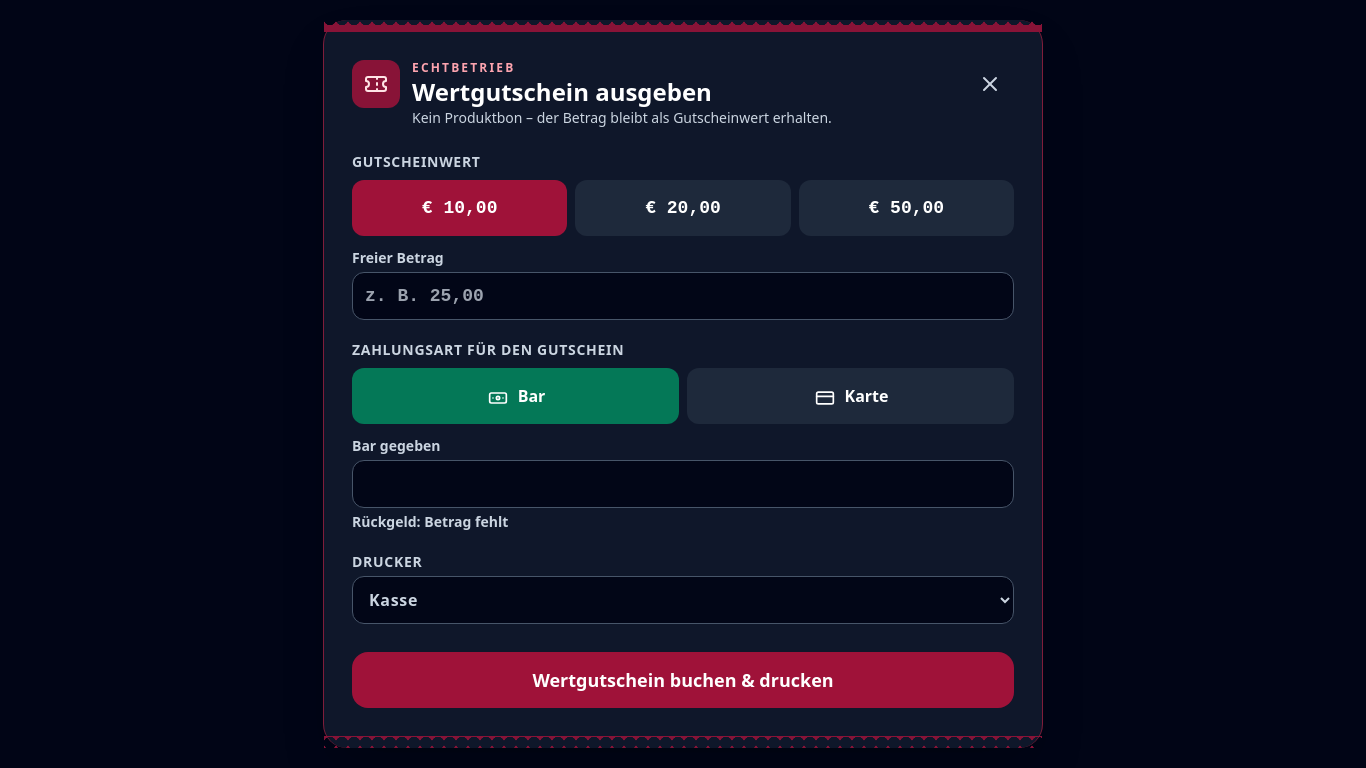
Test: Wertgutschein-Flows › gibt einen Wertgutschein mit Preset, Drucker und Idempotenz aus
Click the button "€ 20,00" at (683, 208), box 575,180 -> 791,236
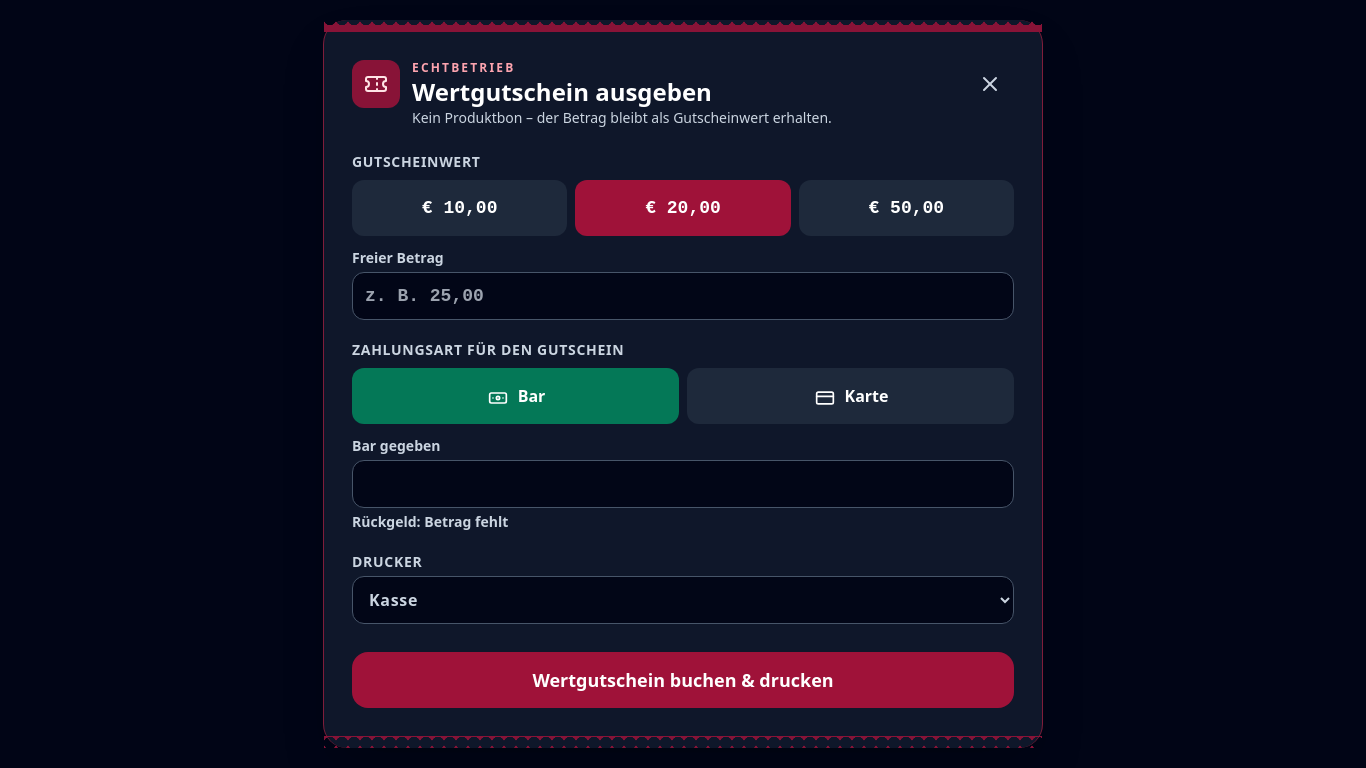
Type "20" into the field labelled "Bar gegeben Rückgeld: Betrag fehlt" at (683, 484), box 352,460 -> 1014,508
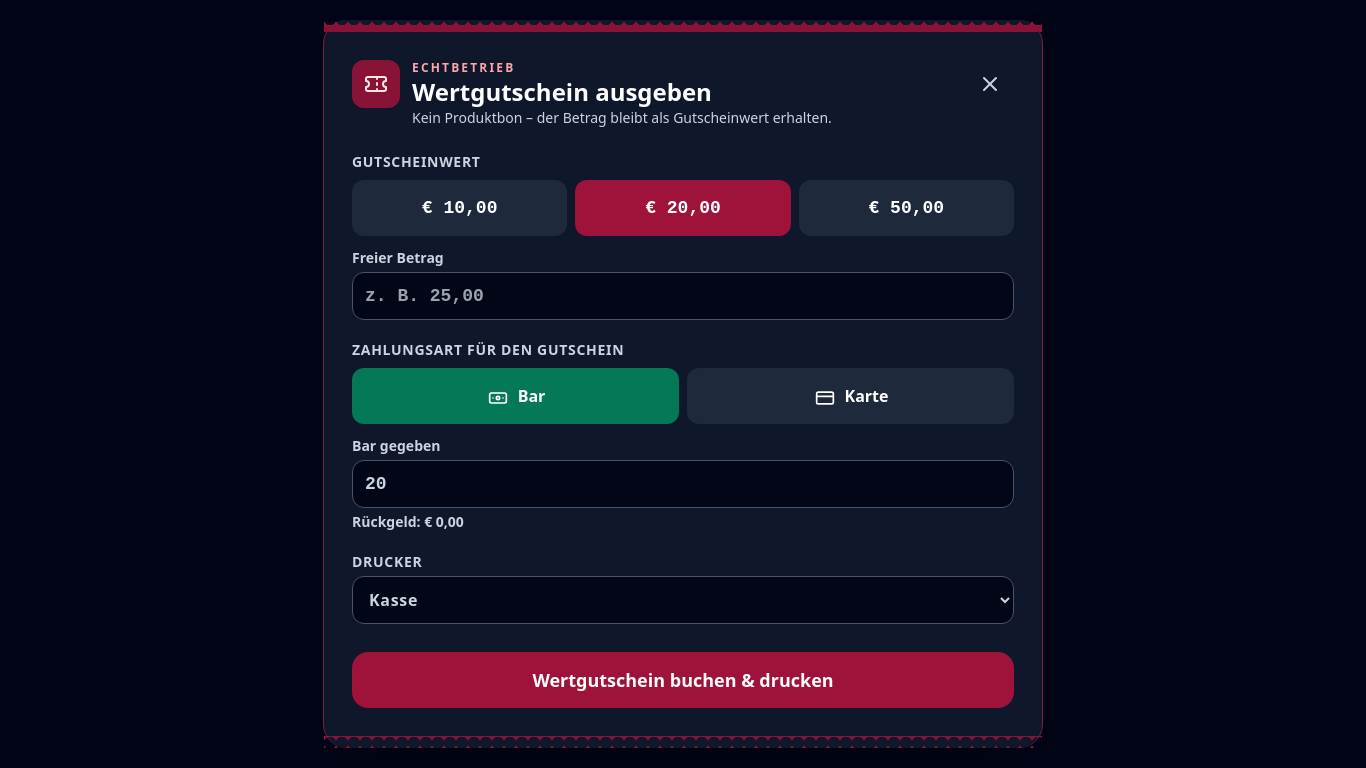
Click the button "Wertgutschein buchen & drucken" at (683, 680), box 352,652 -> 1014,708
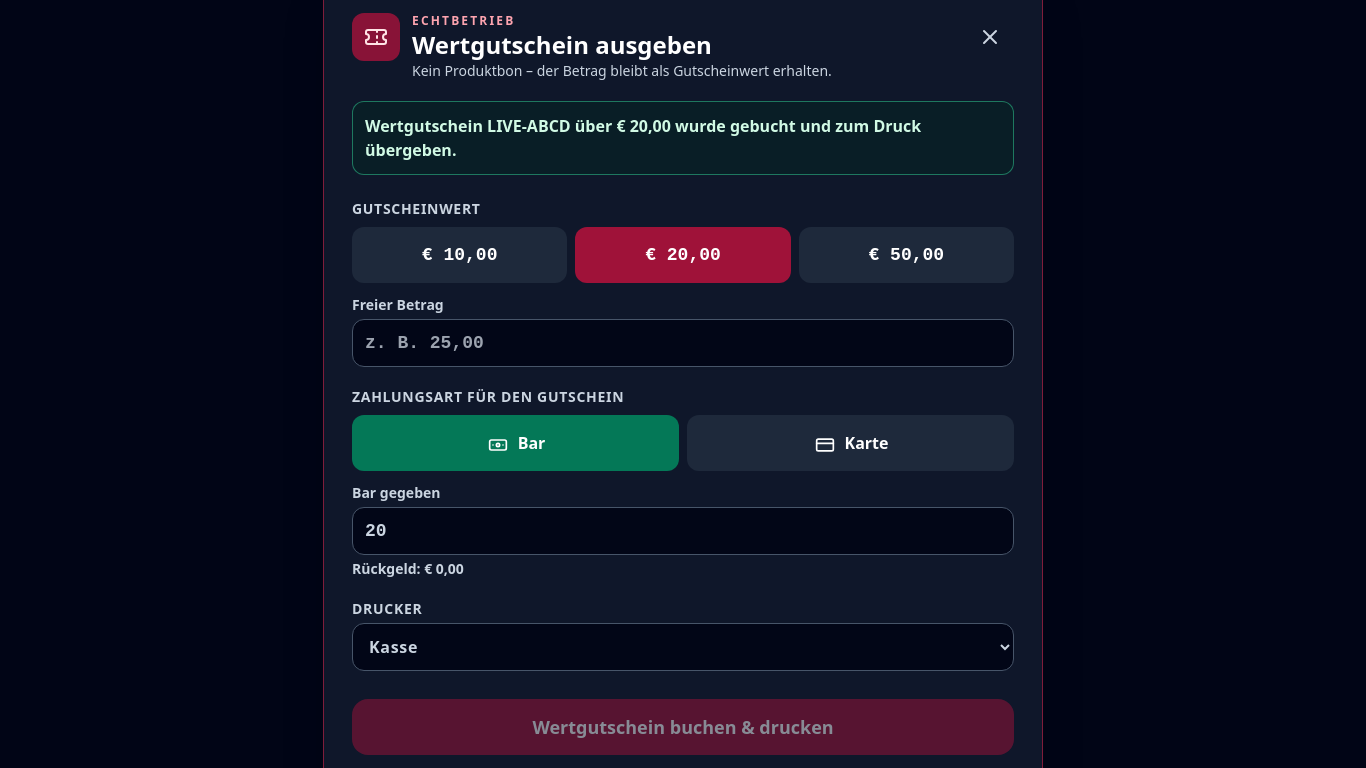
Expected: the text "LIVE-ABCD" is shown, 365,115 -> 921,161
